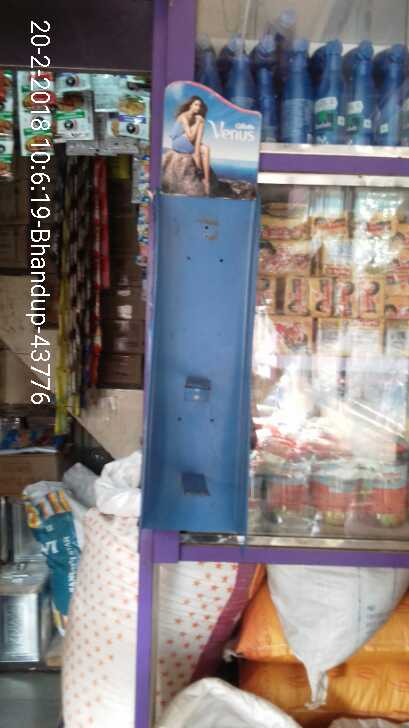reject: (152, 209, 250, 507)
